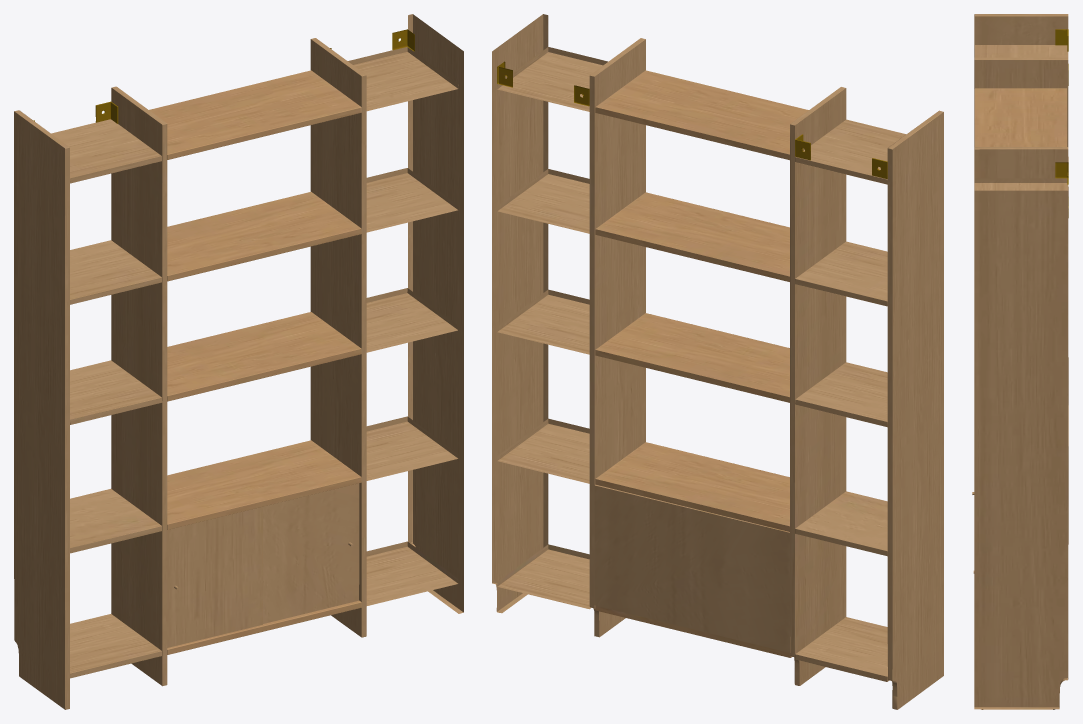
Rendered from 21 - LÅDMAKARE - 滑門收納組合, 附層板橡木紋, 158x35x212 公分 IKEA 線上購物.glb.
3 renders of one model, left to right at view 1: azimuth 30°, elevation 25°; view 2: azimuth 150°, elevation 25°; view 3: azimuth 270°, elevation 25°, orthographic. The views are drawn at different scales.
Visible parts, largest first — view 1: 99613425_storage_combination_w_sliding_doors; view 2: 99613425_storage_combination_w_sliding_doors; view 3: 99613425_storage_combination_w_sliding_doors.
Boxes of the visible parts, x1=… form: 99613425_storage_combination_w_sliding_doors: x1=14, y1=14, x2=463, y2=709; 99613425_storage_combination_w_sliding_doors: x1=492, y1=14, x2=943, y2=709; 99613425_storage_combination_w_sliding_doors: x1=972, y1=14, x2=1068, y2=709.
Size of the model in its own units: 1.58 by 2.12 by 0.358.
Materials: 1 (1 with a texture image).
